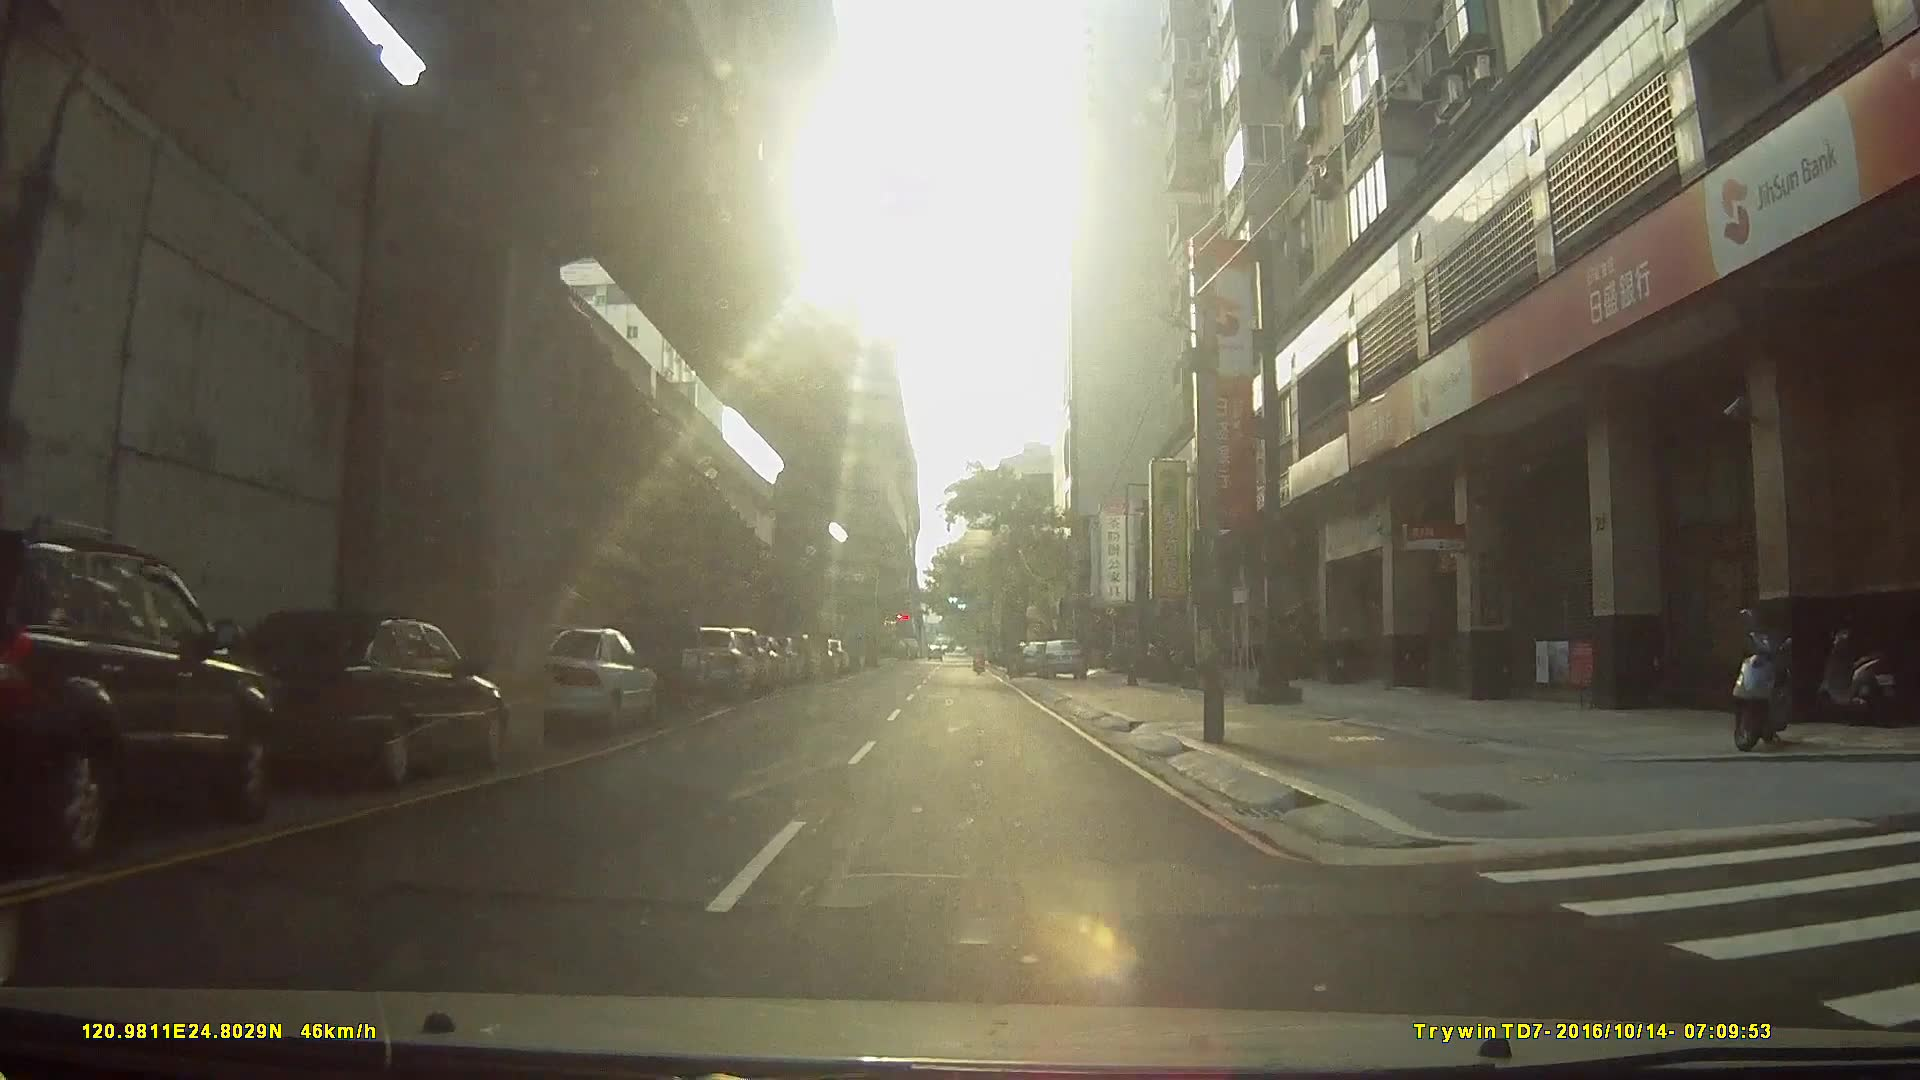vehicle: (0, 521, 280, 866), (191, 605, 512, 790), (508, 617, 659, 735), (589, 607, 709, 704), (659, 620, 794, 670), (1033, 636, 1088, 680)
